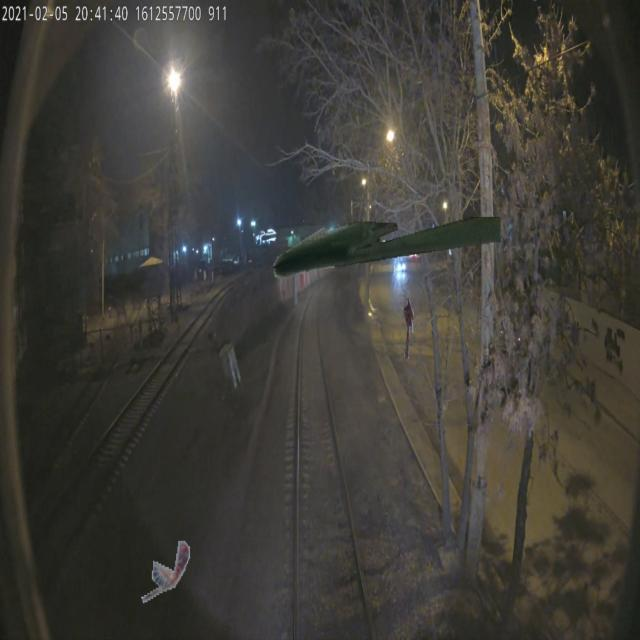floating object: (274, 217, 501, 281), (138, 540, 191, 604), (403, 294, 414, 358)
